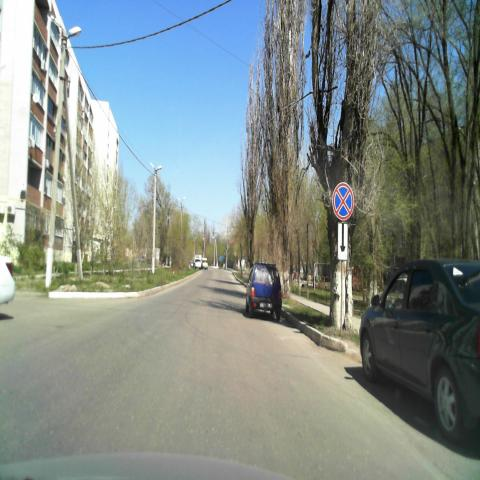8_2_3: (337, 222, 349, 261)
